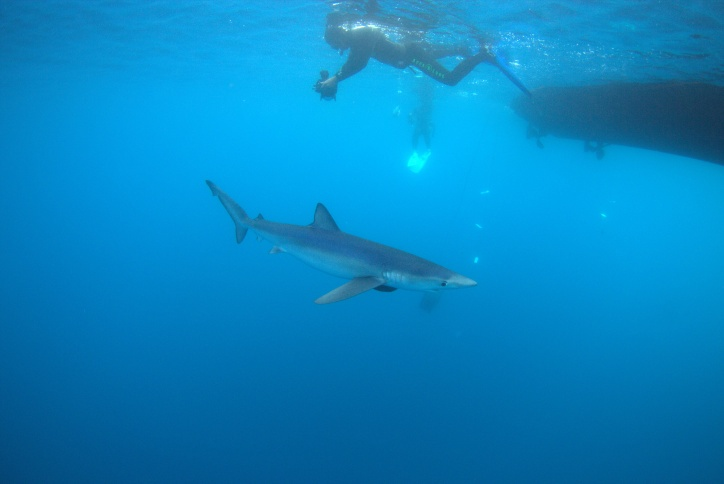Azul: (199, 162, 514, 325)
